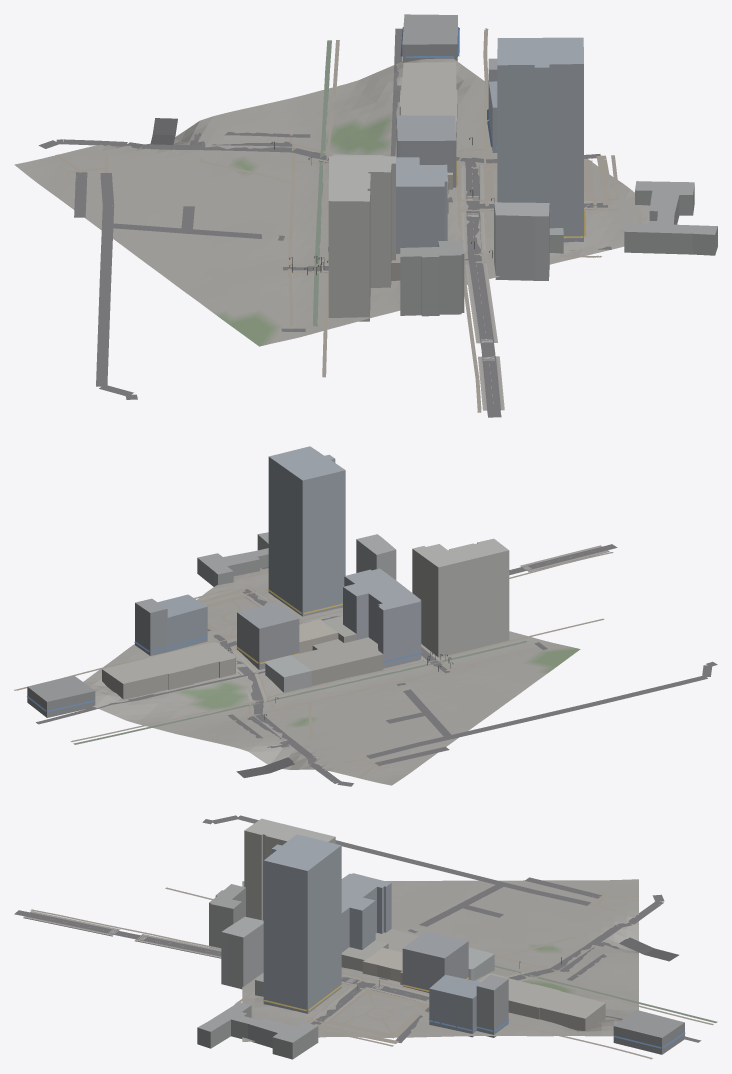
The model's file is tile_-2_-1.glb.
3 views of the same model, one above another, from view 1: azimuth 30°, elevation 25°; view 2: azimuth 150°, elevation 25°; view 3: azimuth 270°, elevation 25° (orthographic). The views are drawn at different scales.
Parts seen in each view (by area): view 1: terrain, buildings, roads, paths, sidewalks; view 2: buildings, terrain, roads, paths, sidewalks, awnings; view 3: buildings, terrain, roads, paths, sidewalks, awnings.
Boxes of the visible parts, <box> form: terrain: <box>14,58,650,346</box>; buildings: <box>328,14,717,321</box>; roads: <box>38,28,611,417</box>; paths: <box>55,28,647,412</box>; sidewalks: <box>319,153,592,410</box>; buildings: <box>27,446,509,717</box>; terrain: <box>83,568,580,785</box>; roads: <box>36,544,717,786</box>; paths: <box>14,552,613,778</box>; sidewalks: <box>230,545,609,702</box>; awnings: <box>27,589,420,711</box>; buildings: <box>197,818,684,1059</box>; terrain: <box>242,879,638,1041</box>; roads: <box>14,815,701,1042</box>; paths: <box>30,887,717,1059</box>; sidewalks: <box>23,911,531,1021</box>; awnings: <box>264,977,685,1048</box>.
Bounding box in the file's own units: 390 × 116 × 455.
